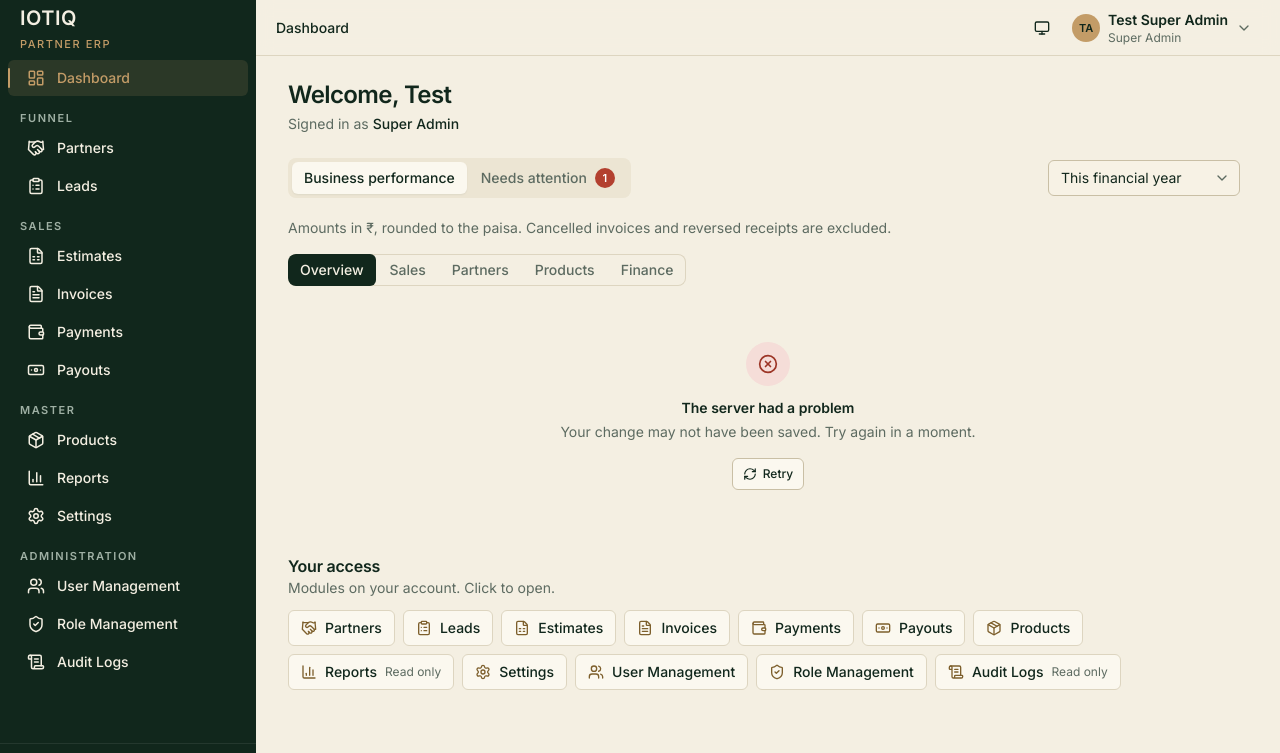
executive dashboard › shows an error with retry when the overview fails
Click the button "Retry".
click(768, 474)  # box [732,458,804,490]
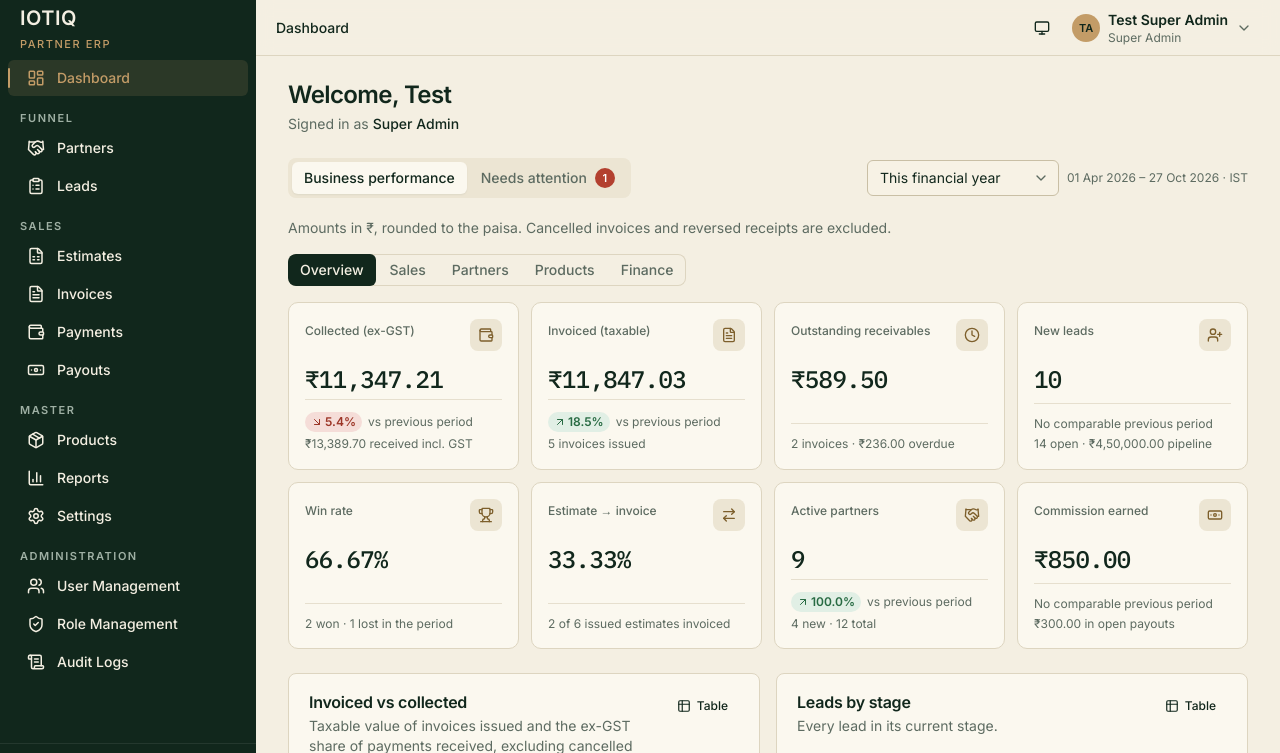
Expected: the link "Collected (ex-GST)" is shown, [288,302,519,470]
